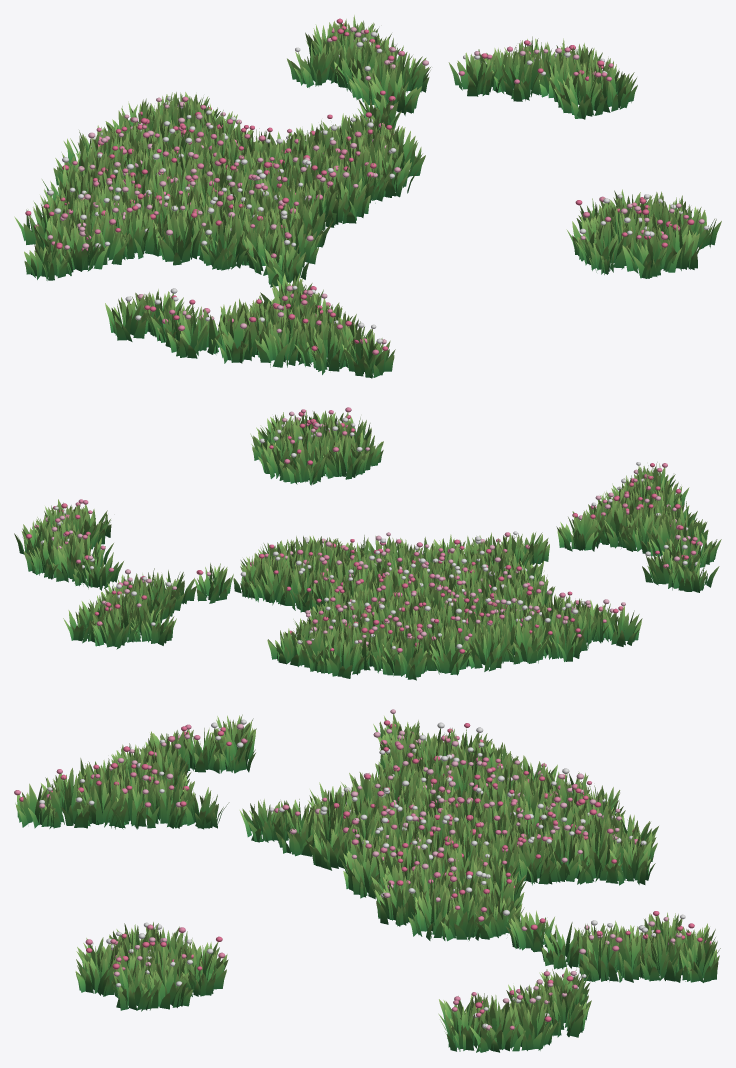
Rendered from yinyang_grass.glb.
The picture shows the model from 3 angles, top to bottom: view 1: azimuth 30°, elevation 25°; view 2: azimuth 150°, elevation 25°; view 3: azimuth 270°, elevation 25°; orthographic projection. The views are drawn at different scales.
Visible parts, largest first — view 1: Grass_21_7, Grass_4_18, Grass_5_10, Grass_17_18, Grass_2_9, Grass_2_16, Grass_20_5, Grass_19_4, Grass_3_17, Grass_16_17, Grass_1_14, Grass_6_20 (+85 smaller); view 2: Grass_5_4, Grass_8_2, Grass_6_3, Grass_4_5, Grass_20_4, Grass_16_0, Grass_2_7, Grass_13_6, Grass_16_16, Grass_17_15, Grass_3_6, Grass_5_16 (+90 smaller); view 3: Grass_22_6, Grass_6_16, Grass_17_1, Grass_10_2, Grass_14_8, Grass_2_14, Grass_6_18, Grass_14_7, Grass_19_17, Grass_6_19, Grass_19_16, Grass_17_2 (+92 smaller).
Part boxes in pixels (left/top/right/bottom): Grass_21_7: left=554, top=60, right=607, bottom=119; Grass_4_18: left=255, top=312, right=310, bottom=367; Grass_5_10: left=153, top=210, right=213, bottom=265; Grass_17_18: left=622, top=225, right=681, bottom=278; Grass_2_9: left=51, top=220, right=108, bottom=275; Grass_2_16: left=167, top=299, right=220, bottom=358; Grass_20_5: left=492, top=47, right=545, bottom=101; Grass_19_4: left=448, top=49, right=504, bottom=96; Grass_3_17: left=211, top=308, right=258, bottom=363; Grass_16_17: left=575, top=218, right=630, bottom=274; Grass_1_14: left=105, top=294, right=160, bottom=341; Grass_6_20: left=342, top=330, right=395, bottom=378; Grass_5_4: left=426, top=627, right=475, bottom=675; Grass_8_2: left=320, top=629, right=371, bottom=678; Grass_6_3: left=380, top=627, right=432, bottom=680; Grass_4_5: left=462, top=623, right=513, bottom=671; Grass_20_4: left=48, top=534, right=97, bottom=585; Grass_16_0: left=90, top=602, right=139, bottom=649; Grass_2_7: left=539, top=611, right=585, bottom=661; Grass_13_6: left=249, top=555, right=299, bottom=605; Grass_16_16: left=323, top=431, right=369, bottom=479; Grass_17_15: left=279, top=436, right=328, bottom=485; Grass_3_6: left=507, top=617, right=552, bottom=664; Grass_5_16: left=593, top=496, right=641, bottom=548; Grass_22_6: left=469, top=996, right=525, bottom=1052; Grass_6_16: left=142, top=771, right=195, bottom=828; Grass_17_1: left=639, top=927, right=683, bottom=982; Grass_10_2: left=604, top=832, right=655, bottom=885; Grass_14_8: left=408, top=888, right=460, bottom=940; Grass_2_14: left=211, top=720, right=255, bottom=773; Grass_6_18: left=75, top=776, right=127, bottom=829; Grass_14_7: left=441, top=885, right=493, bottom=941; Grass_19_17: left=111, top=956, right=162, bottom=1011; Grass_6_19: left=44, top=769, right=91, bottom=828; Grass_19_16: left=141, top=955, right=193, bottom=1009; Grass_17_2: left=608, top=921, right=654, bottom=982.
Bounding box in the file's own units: 11.33 × 0.7299 × 10.71.
